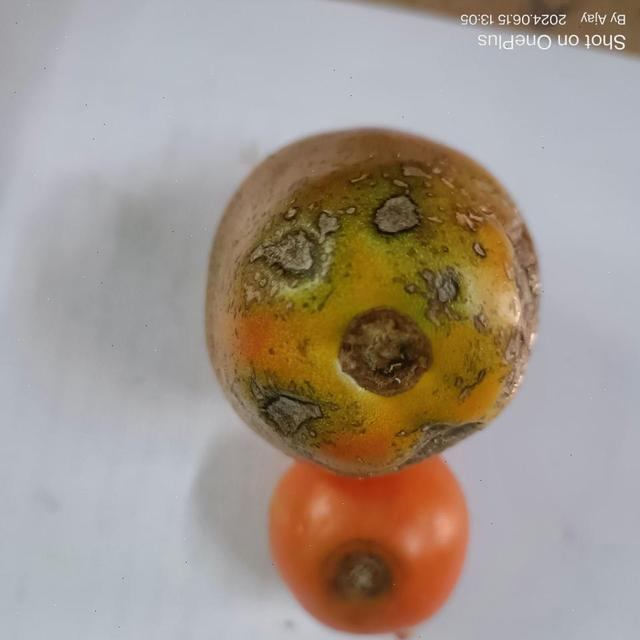Bacterial Spot Fruit: (4, 5, 320, 305)
